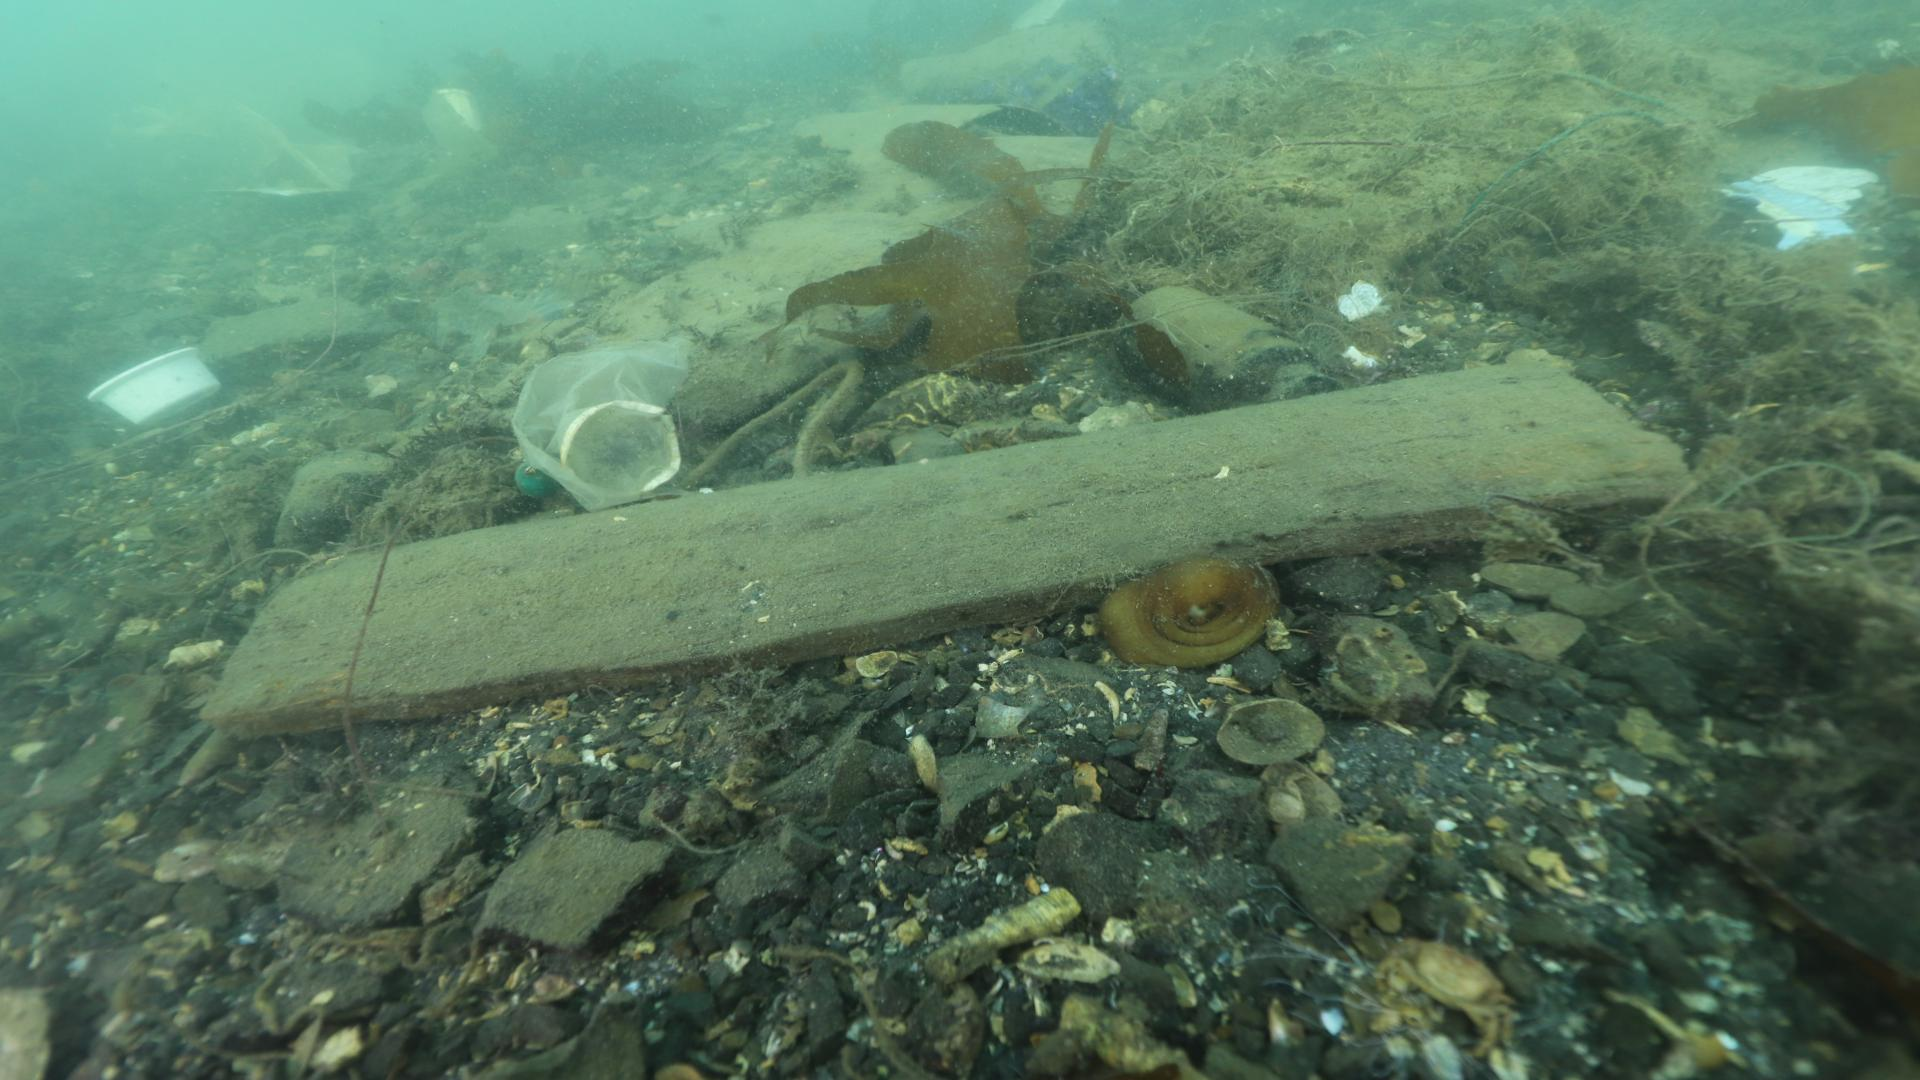wood: (200, 347, 1698, 745)
